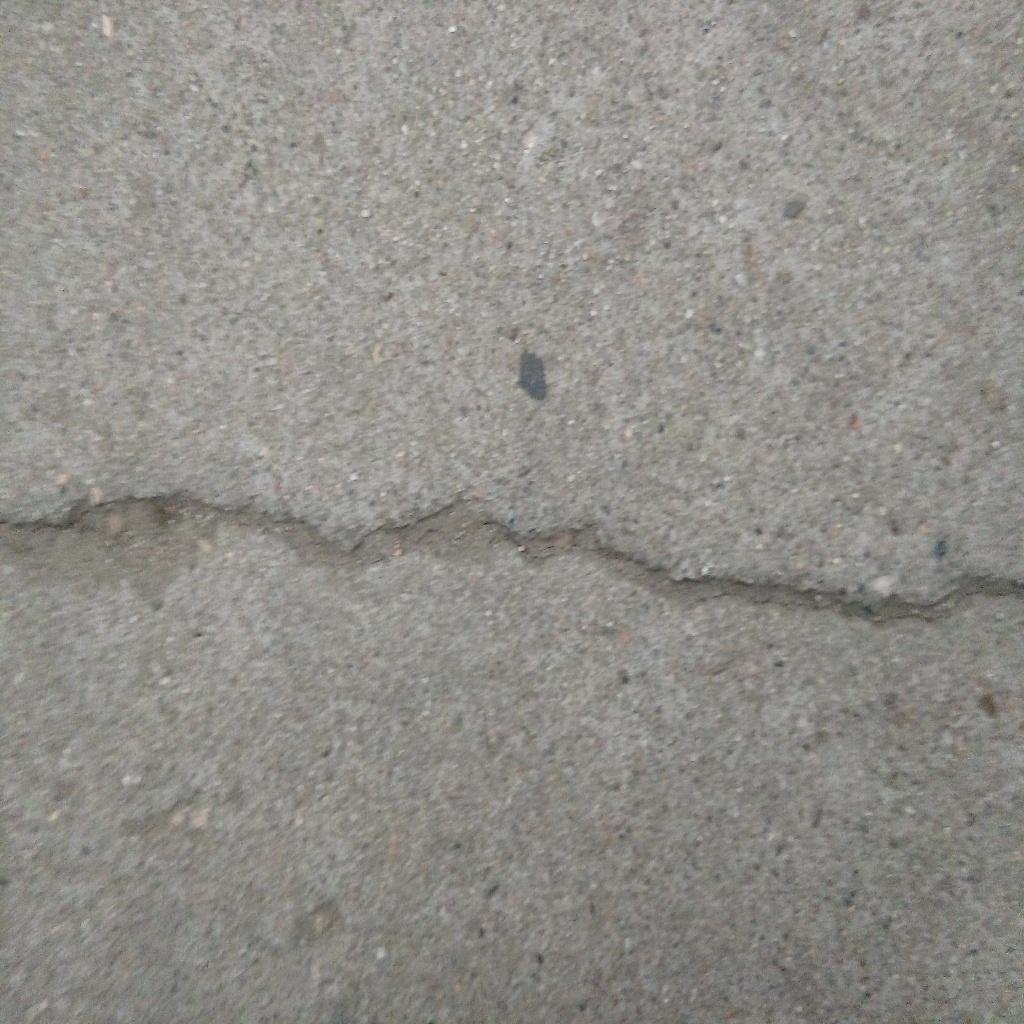Crack: (1, 484, 1024, 625)
